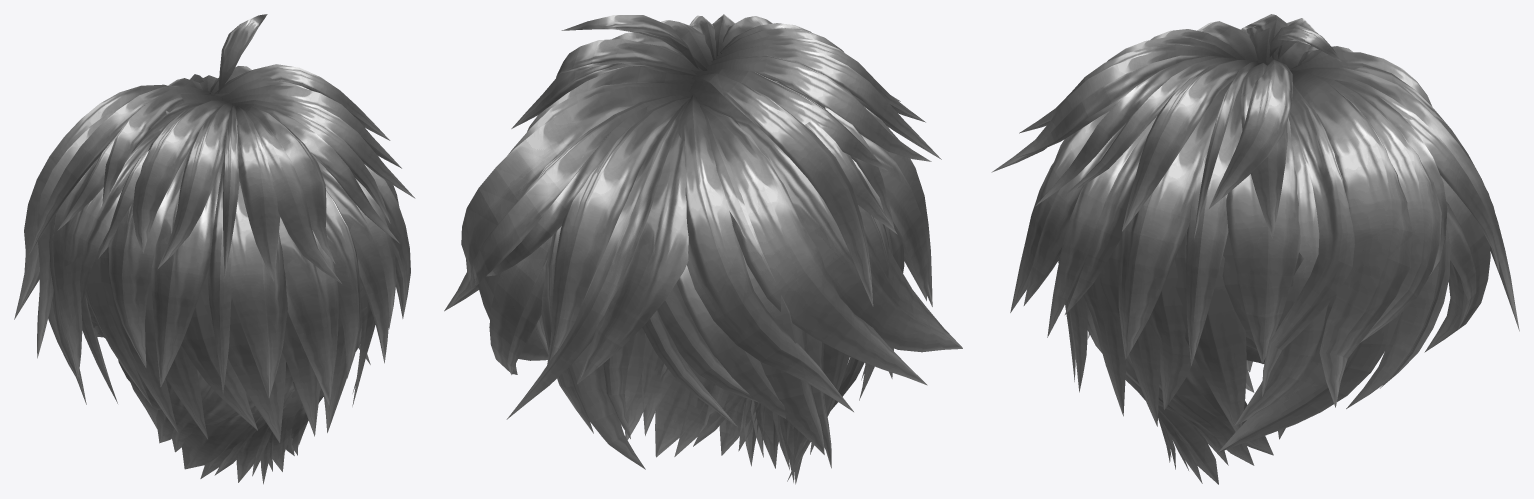
File: hair-masculine-layered.glb
3 views of the same model, side by side, from view 1: azimuth 30°, elevation 25°; view 2: azimuth 150°, elevation 25°; view 3: azimuth 270°, elevation 25° (orthographic). The views are drawn at different scales.
Parts seen in each view (by area): view 1: hair-layered; view 2: hair-layered; view 3: hair-layered.
Boxes of the visible parts, x1,y1,x2,y2 form: hair-layered: (14, 14, 415, 484); hair-layered: (444, 14, 962, 484); hair-layered: (991, 14, 1519, 484).
Bounding box in the file's own units: 0.2696 × 0.2865 × 0.2987.
1 material, 1 textured.
